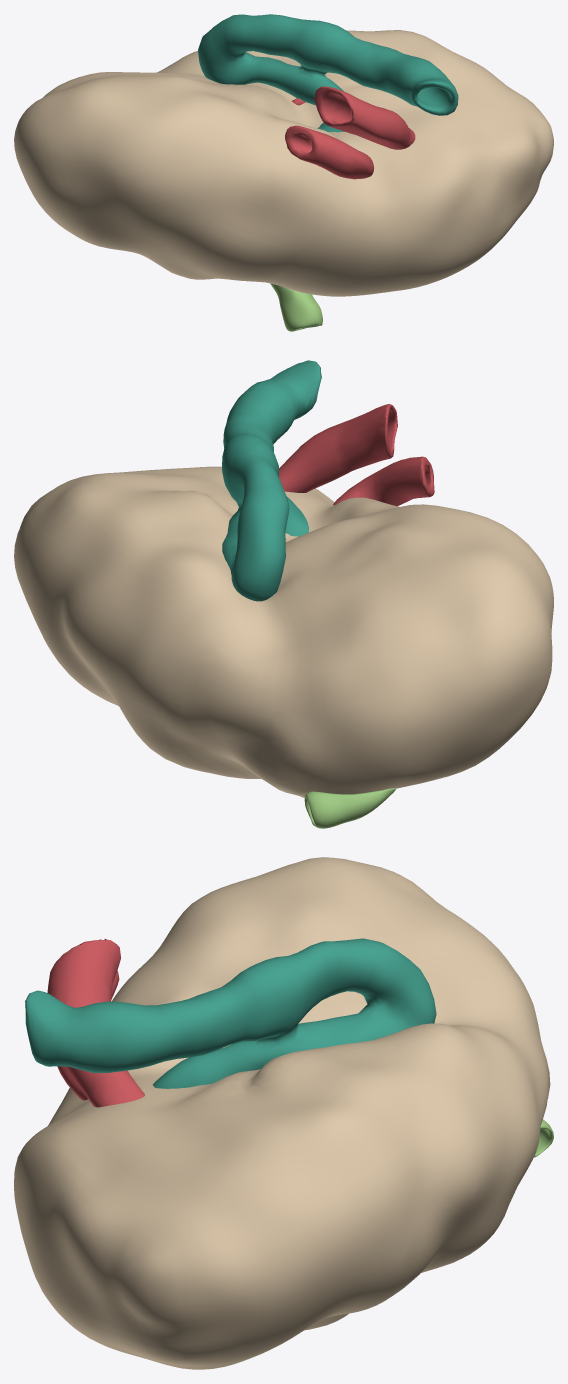
The model's file is lymph-node.glb.
3 renders of one model, top to bottom at view 1: azimuth 30°, elevation 25°; view 2: azimuth 150°, elevation 25°; view 3: azimuth 270°, elevation 25°, orthographic. The views are drawn at different scales.
Parts seen in each view (by area): view 1: capsule, efferent-vessel, blood-vessels, afferent-vessels; view 2: capsule, efferent-vessel, blood-vessels, afferent-vessels; view 3: capsule, efferent-vessel, blood-vessels.
Boxes of the visible parts, x1,y1,x2,y2 form: capsule: (14,30,553,296); efferent-vessel: (198,14,458,132); blood-vessels: (285,86,415,179); afferent-vessels: (270,283,322,331); capsule: (14,466,553,797); efferent-vessel: (222,360,321,601); blood-vessels: (279,404,434,506); afferent-vessels: (304,788,396,828); capsule: (14,857,550,1369); efferent-vessel: (25,938,436,1088); blood-vessels: (47,939,144,1107).
Size of the model in its own units: 1.83 by 1.07 by 1.3.
